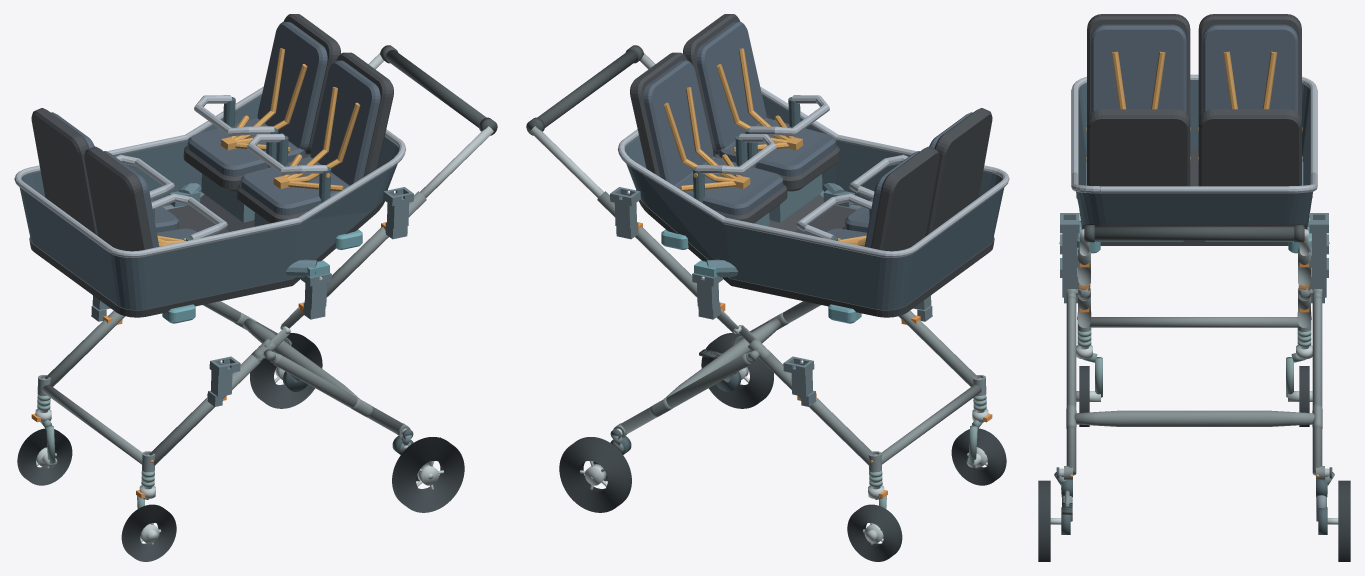
Rendered from S12_w650_state1_wheel_S.glb.
3 renders of one model, left to right at view 1: azimuth 30°, elevation 25°; view 2: azimuth 150°, elevation 25°; view 3: azimuth 270°, elevation 25°, orthographic. The views are drawn at different scales.
Visible parts, largest first — view 1: S12_Cabin, RL_tire.008, RR_tire.008, FL_tire.008, FR_tire.008, round_handle.008, V46_rear_leg_-1.009, main_lower_-1.009, front_fixed_round_tube.008, main_upper_-1.009, V46_rearbar.009, main_lower_1.009 (+5 smaller); view 2: S12_Cabin, RR_tire.008, FR_tire.008, RL_tire.008, FL_tire.008, round_handle.008, V46_rear_leg_1.009, main_lower_1.009, front_fixed_round_tube.008, main_upper_1.009, V46_rearbar.009, main_lower_-1.009 (+5 smaller); view 3: S12_Cabin, V46_rearbar.009, round_handle.008, front_fixed_round_tube.008, V46_rear_leg_1.009, V46_rear_leg_-1.009, RL_tire.008, RR_tire.008, Universal_Cabin_Receiver_H_1, Universal_Cabin_Receiver_H_-1, FL_tire.008, FR_tire.008 (+2 smaller).
Part boxes in pixels (left/top/right/bottom): S12_Cabin: left=14, top=14, right=405, bottom=323; RL_tire.008: left=392, top=437, right=464, bottom=512; RR_tire.008: left=250, top=332, right=322, bottom=408; FL_tire.008: left=121, top=504, right=176, bottom=561; FR_tire.008: left=17, top=428, right=72, bottom=485; round_handle.008: left=386, top=50, right=496, bottom=134; V46_rear_leg_-1.009: left=272, top=353, right=403, bottom=433; main_lower_-1.009: left=149, top=354, right=263, bottom=465; front_fixed_round_tube.008: left=42, top=384, right=142, bottom=464; main_upper_-1.009: left=326, top=191, right=426, bottom=297; V46_rearbar.009: left=243, top=318, right=359, bottom=398; main_lower_1.009: left=45, top=311, right=124, bottom=386; S12_Cabin: left=618, top=14, right=1009, bottom=323; RR_tire.008: left=559, top=437, right=631, bottom=512; FR_tire.008: left=847, top=504, right=902, bottom=561; RL_tire.008: left=701, top=333, right=773, bottom=408; FL_tire.008: left=951, top=428, right=1006, bottom=485; round_handle.008: left=527, top=50, right=637, bottom=134; V46_rear_leg_1.009: left=620, top=353, right=751, bottom=433; main_lower_1.009: left=760, top=354, right=874, bottom=465; front_fixed_round_tube.008: left=881, top=384, right=981, bottom=464; main_upper_1.009: left=597, top=191, right=697, bottom=297; V46_rearbar.009: left=664, top=318, right=780, bottom=398; main_lower_-1.009: left=899, top=311, right=978, bottom=386; S12_Cabin: left=1071, top=14, right=1317, bottom=253; V46_rearbar.009: left=1074, top=410, right=1314, bottom=426; round_handle.008: left=1084, top=226, right=1304, bottom=240; front_fixed_round_tube.008: left=1089, top=317, right=1299, bottom=327; V46_rear_leg_1.009: left=1312, top=296, right=1322, bottom=475; V46_rear_leg_-1.009: left=1066, top=296, right=1076, bottom=475; RL_tire.008: left=1038, top=480, right=1050, bottom=561; RR_tire.008: left=1338, top=480, right=1350, bottom=561; Universal_Cabin_Receiver_H_1: left=1309, top=213, right=1328, bottom=267; Universal_Cabin_Receiver_H_-1: left=1060, top=213, right=1079, bottom=267; FL_tire.008: left=1079, top=366, right=1089, bottom=426; FR_tire.008: left=1299, top=366, right=1309, bottom=426.
Bounding box in the file's own units: 1.15 × 1.19 × 0.766.
